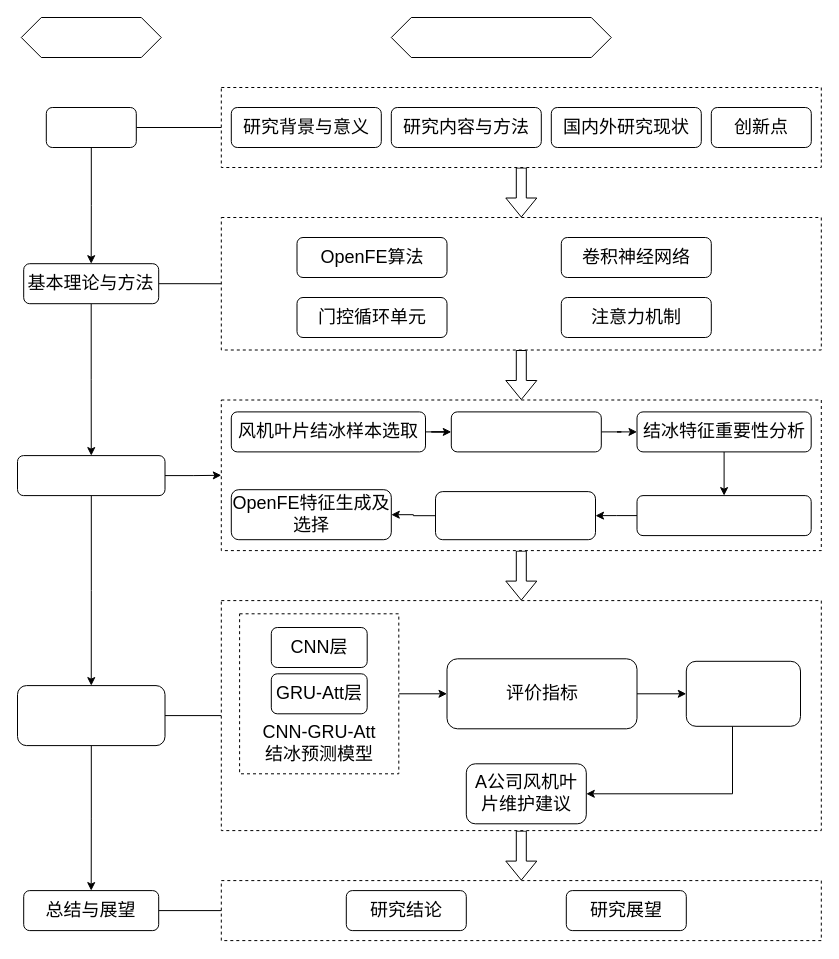
This 839x959 diagram has some shape labels left out. The shapes that lost their labels are listed below. From the top down, each one's centre as x and y in pixels, then its label:
At point (90, 37): "研究目标".
At point (500, 37): "研究内容与研究方法".
At point (90, 127): "绪论".
At point (525, 431): "归一化".
At point (90, 475): "预处理及特征选择".
At point (515, 515): "风机结冰机理分析".
At point (723, 515): "结冰特征相关性分析".
At point (742, 693): "实验结果".
At point (90, 715): "风机叶片结冰诊断模型".
